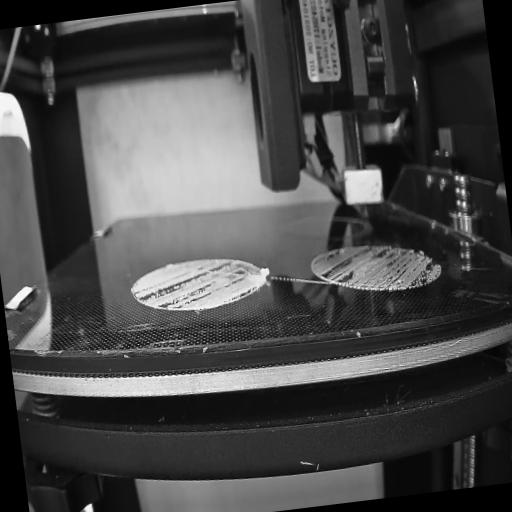under_extrusion: (132, 256, 260, 318), (312, 236, 440, 296)
